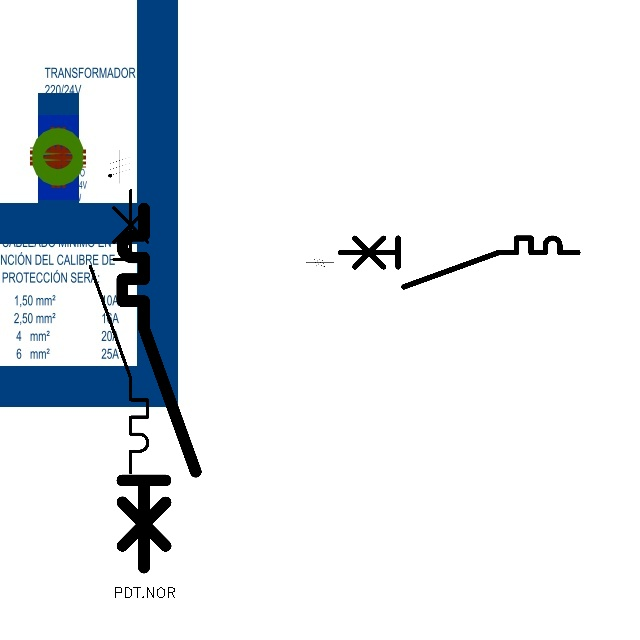interruptor_termomagnetico: (113, 199, 205, 577), (83, 183, 155, 480), (334, 232, 584, 293)
